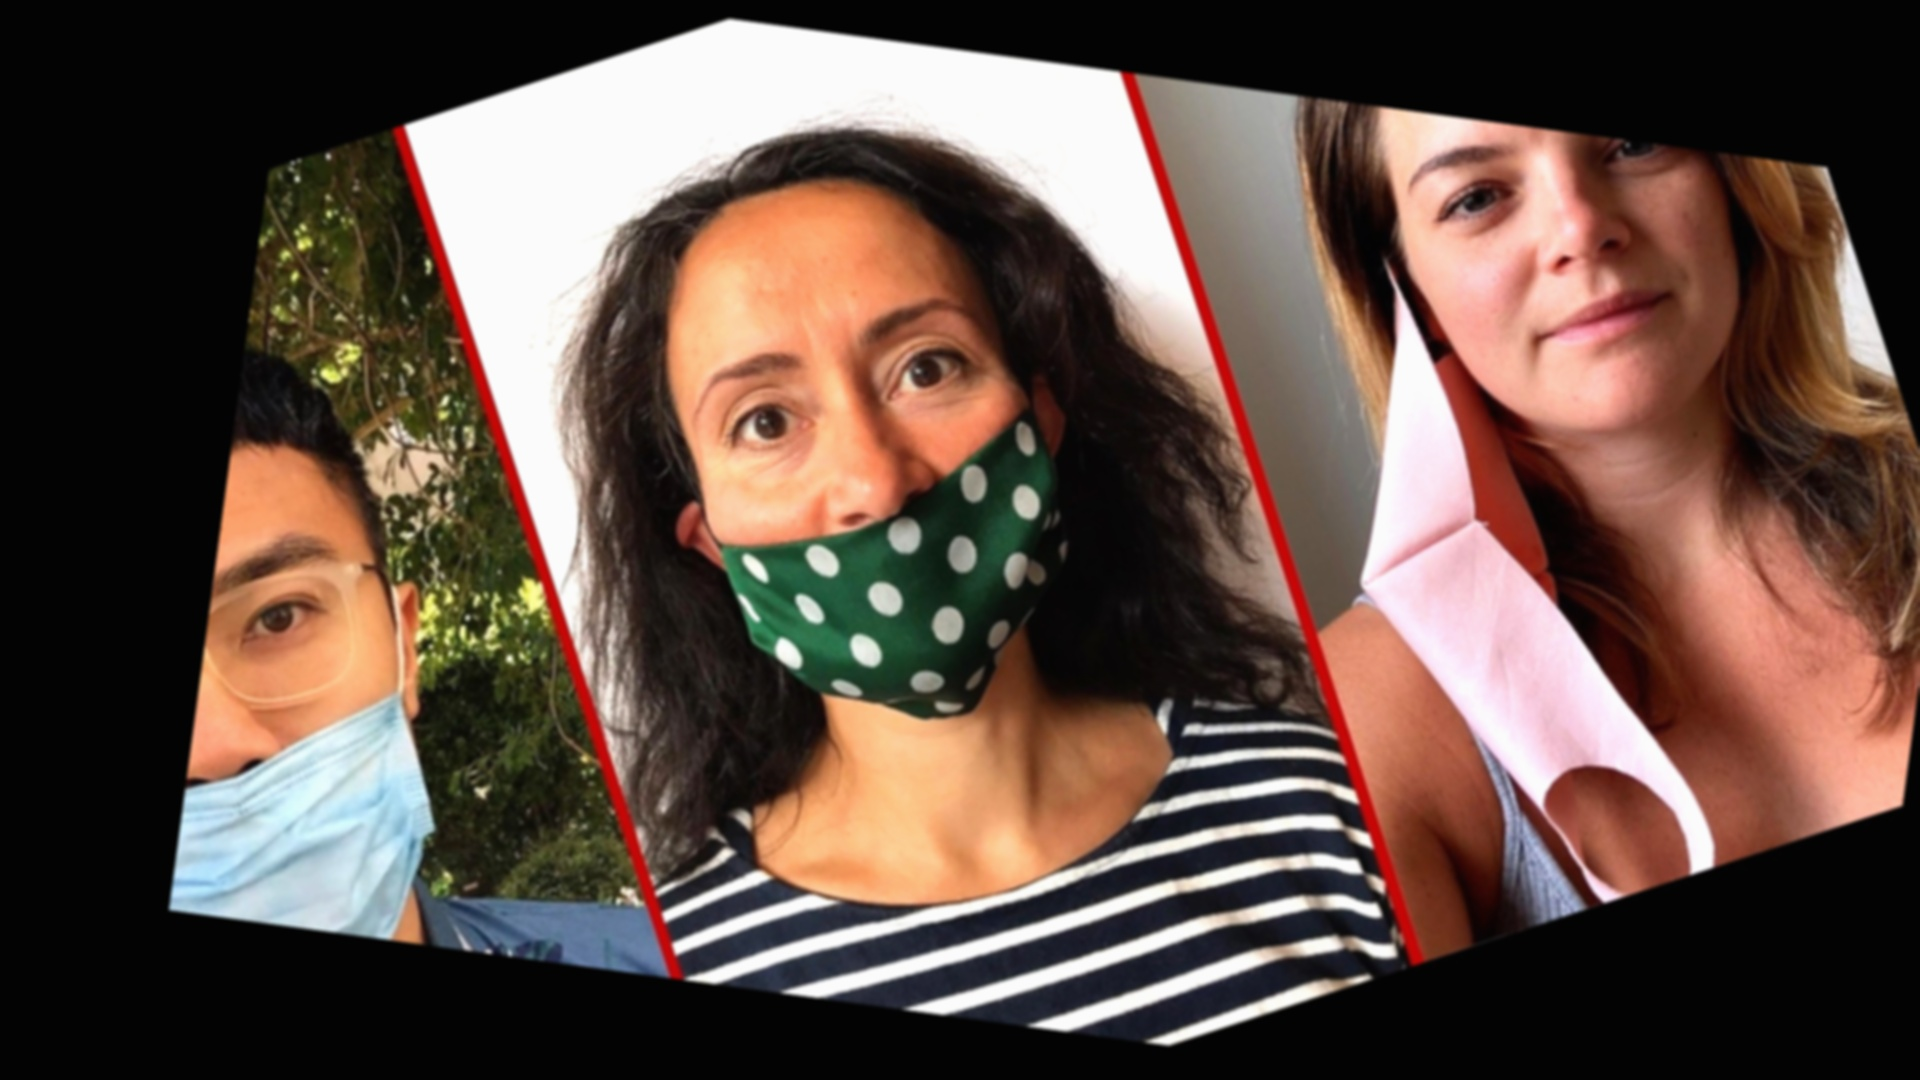mask_weared_incorrect: (577, 156, 1091, 707), (130, 368, 437, 942)
without_mask: (1367, 47, 1774, 435)
